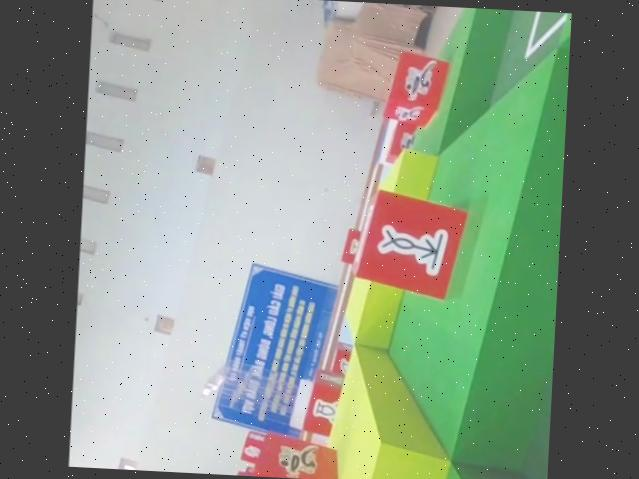R1: (378, 46, 454, 131), (233, 429, 340, 479)
R2 Real: (349, 188, 469, 301)
